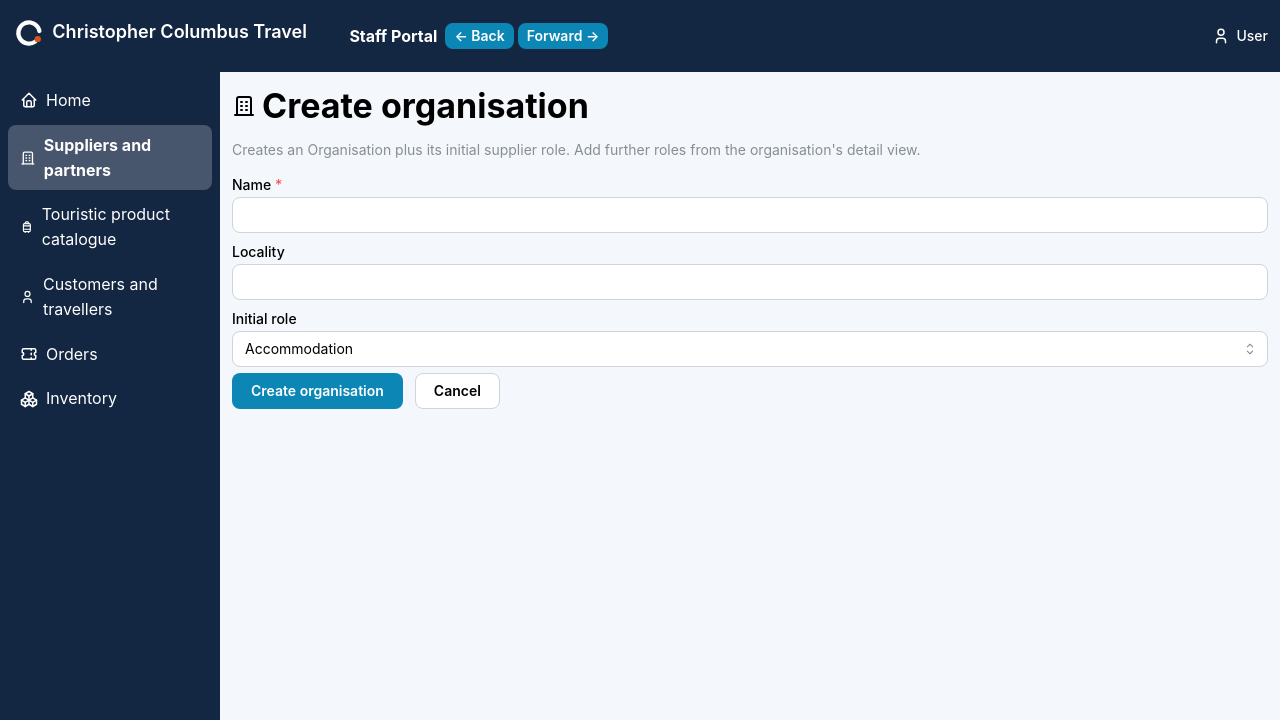
Scenario: OrganisationCreateRoute (VIEW-S-004 create flow, issue #30 phase 2) › requires an airline designator when the initial role is airline
Type "Condorleaf Air" into the field labelled "Name *" at (750, 215), box [232,197,1268,233]
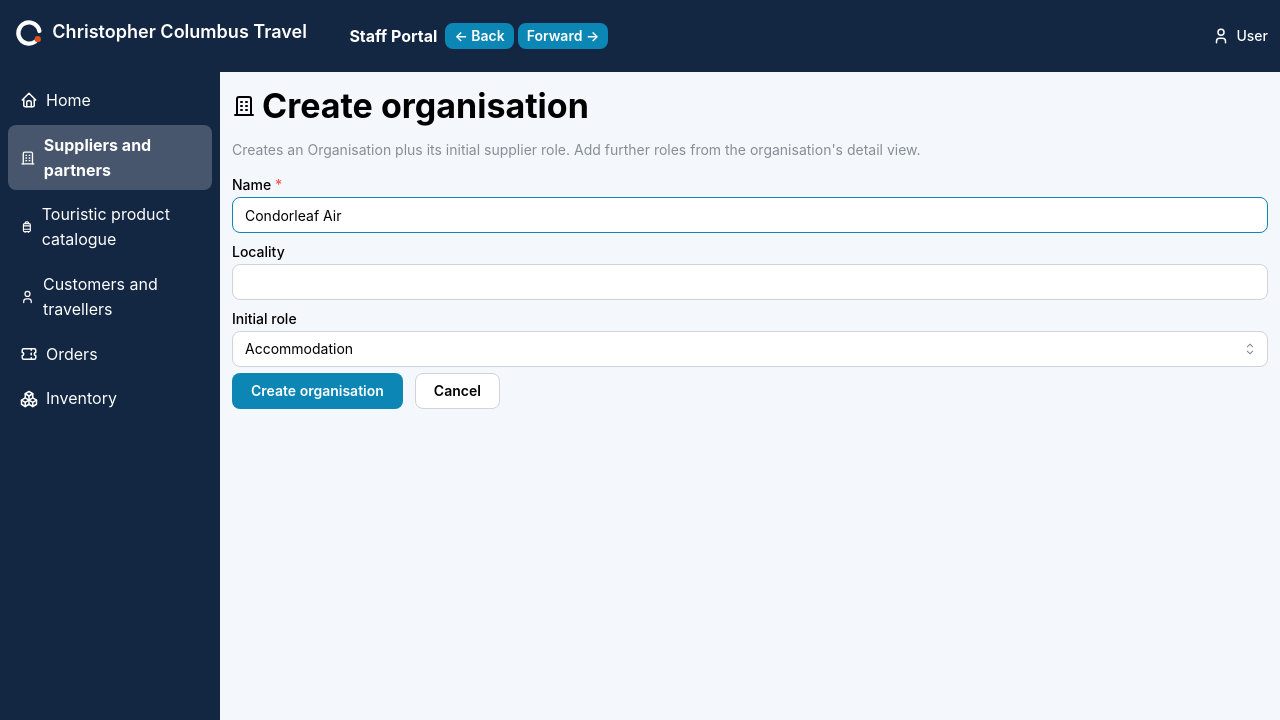
Click the field labelled "Initial role" at (750, 349), box [232,331,1268,367]
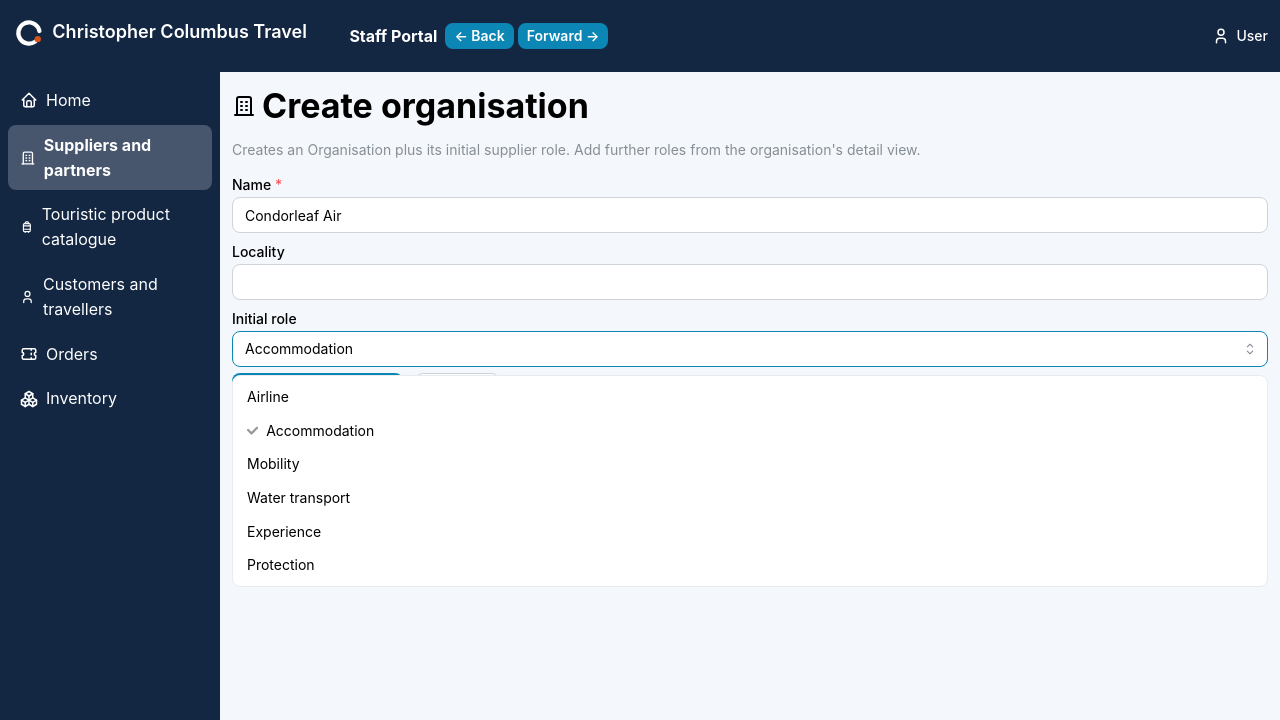
Click the option "Airline" at (268, 396), box [247,388,289,405]
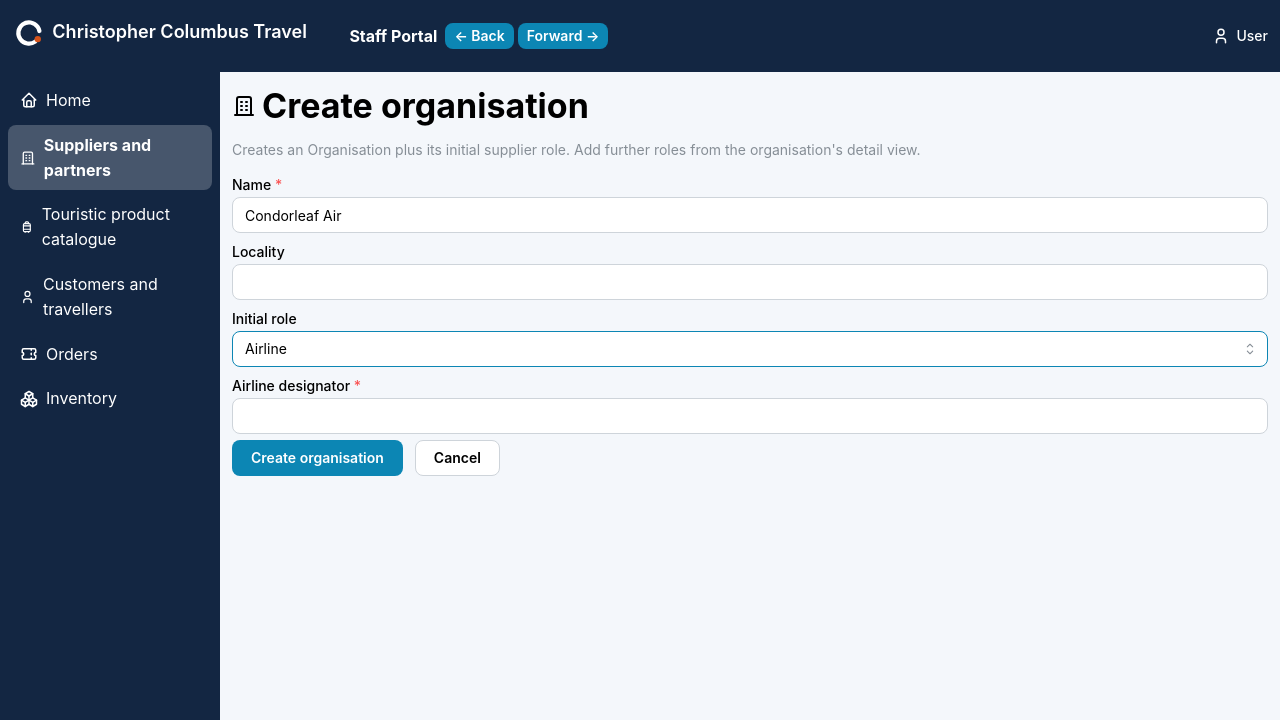
Click the button "Create organisation" at (317, 458), box [232,440,403,476]
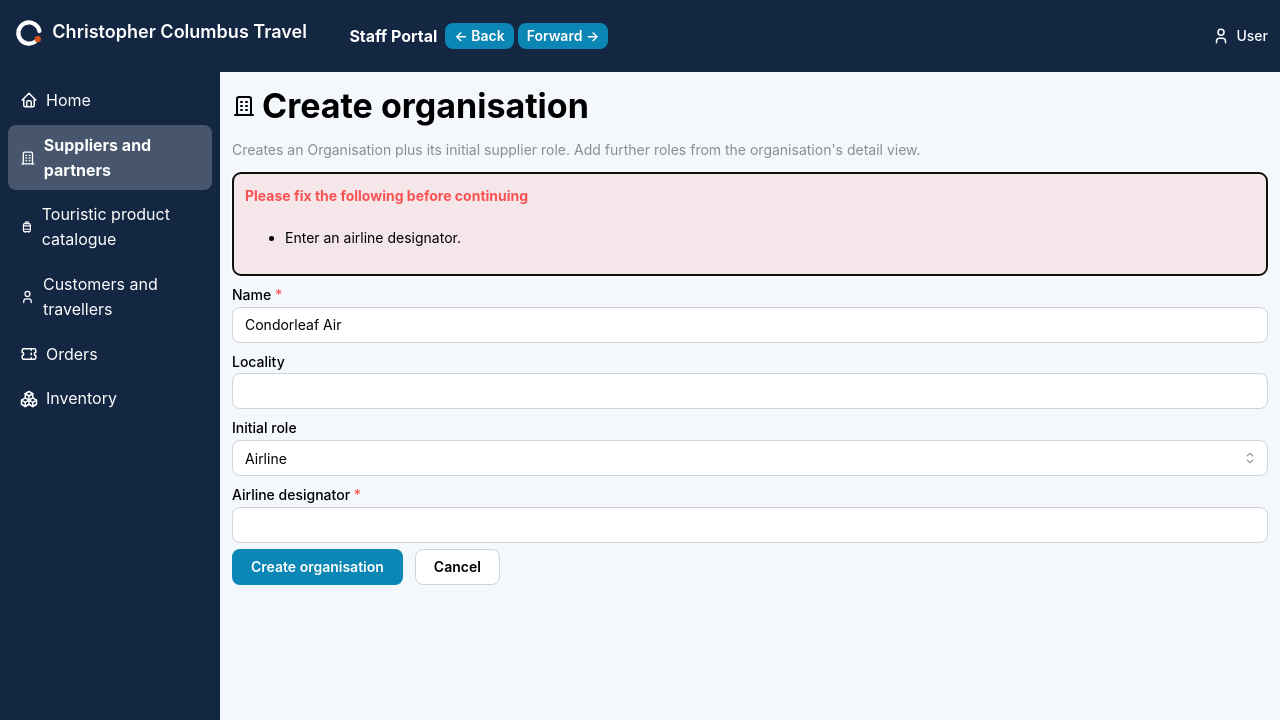
Now the list item "Enter an airline designator." is shown, box [285,229,461,246]
